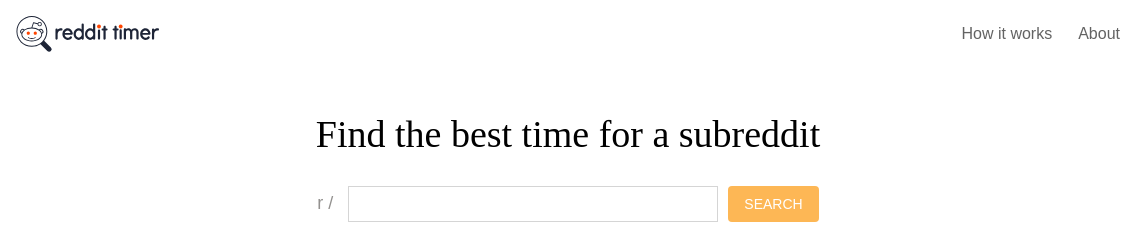
Test: Header › "About link points" to the correct page
Step 1. Click the link "About" → (1099, 34), box [1078,26,1120,42]
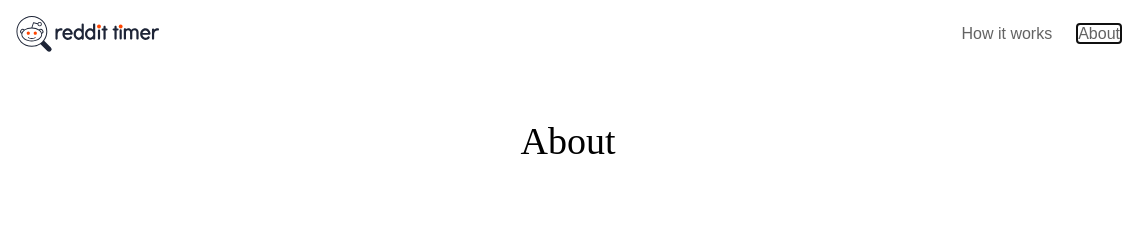
expect the heading "About" is shown: met, box [520,120,616,162]
